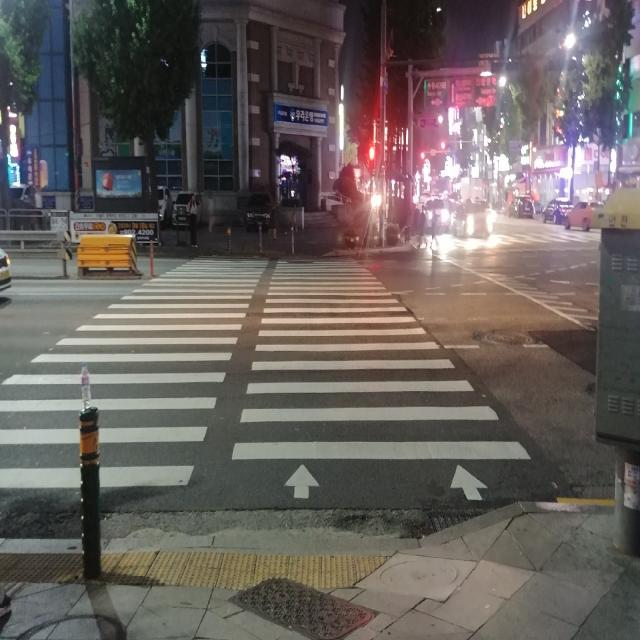빨간불: (369, 146, 375, 170)
횡단보도: (0, 257, 534, 504), (444, 235, 580, 242)
